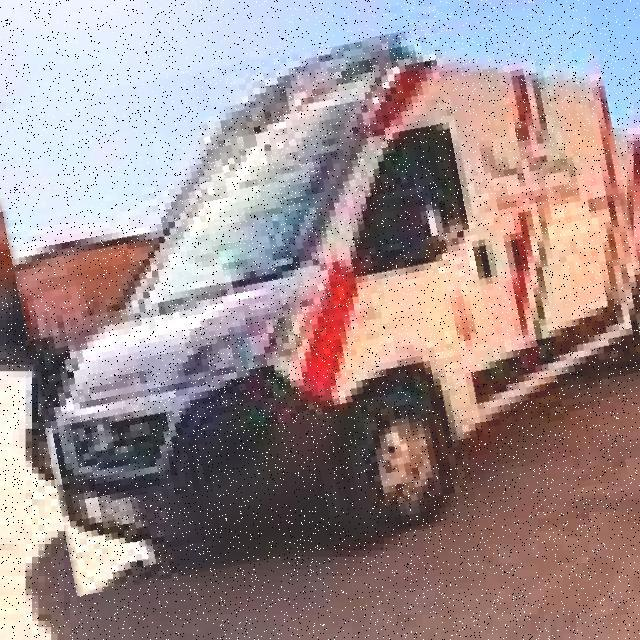police: (5, 22, 640, 568)
